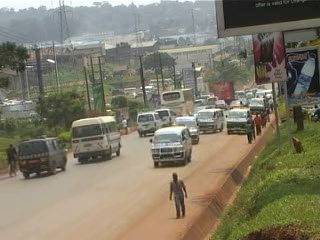Car: (213, 95, 228, 112), (229, 99, 243, 111), (237, 96, 250, 108)
